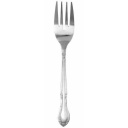Fork: (48, 1, 85, 128)
